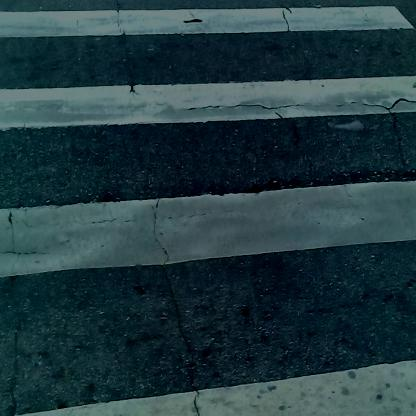crosswalk: (2, 6, 416, 416)
